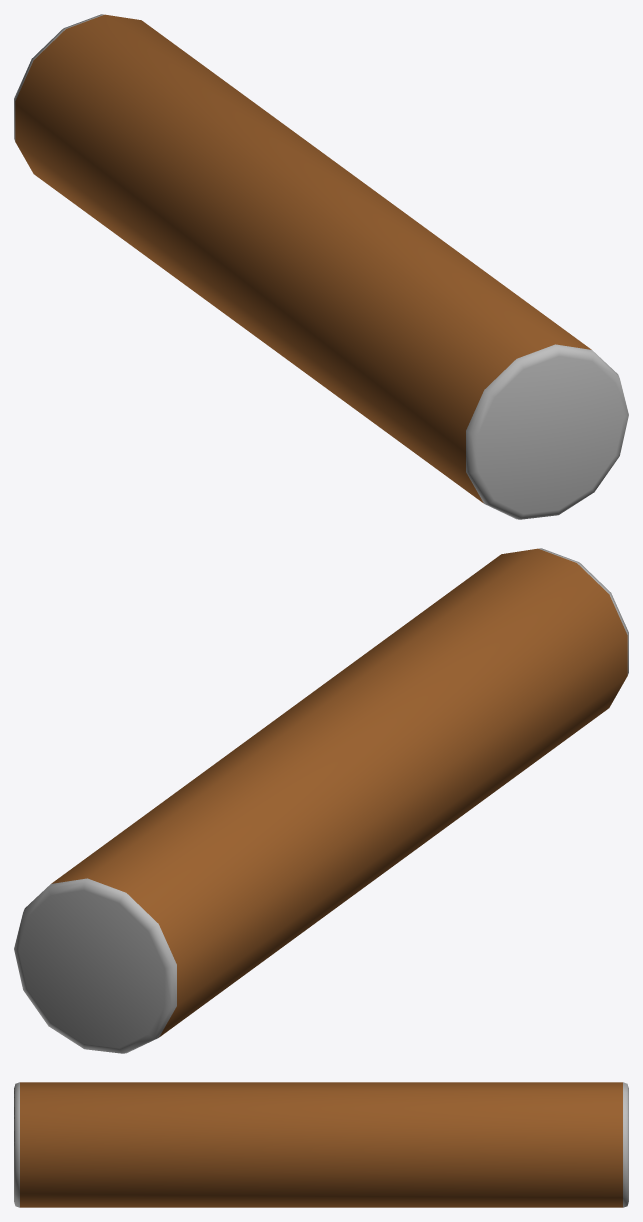
File: woodpile.fbx
3 renders of one model, top to bottom at view 1: azimuth 30°, elevation 25°; view 2: azimuth 150°, elevation 25°; view 3: azimuth 270°, elevation 25°, orthographic. The views are drawn at different scales.
Parts seen in each view (by area): view 1: Cylinder001; view 2: Cylinder001; view 3: Cylinder001.
Part boxes in pixels (bbox=[...]): Cylinder001: bbox=[14, 14, 628, 519]; Cylinder001: bbox=[14, 548, 628, 1053]; Cylinder001: bbox=[14, 1082, 628, 1207].
Size of the model in its own units: 32.01 by 32.24 by 158.
